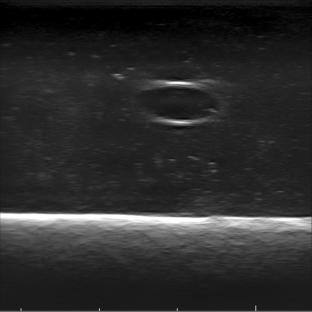vessel: (133, 80, 220, 125)
